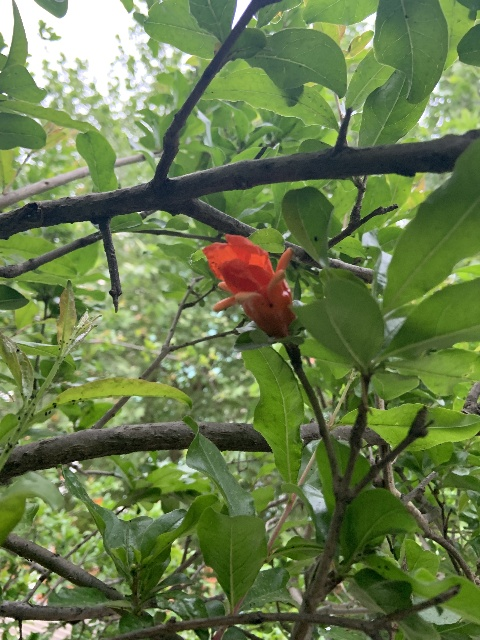flower: (201, 232, 296, 339)
